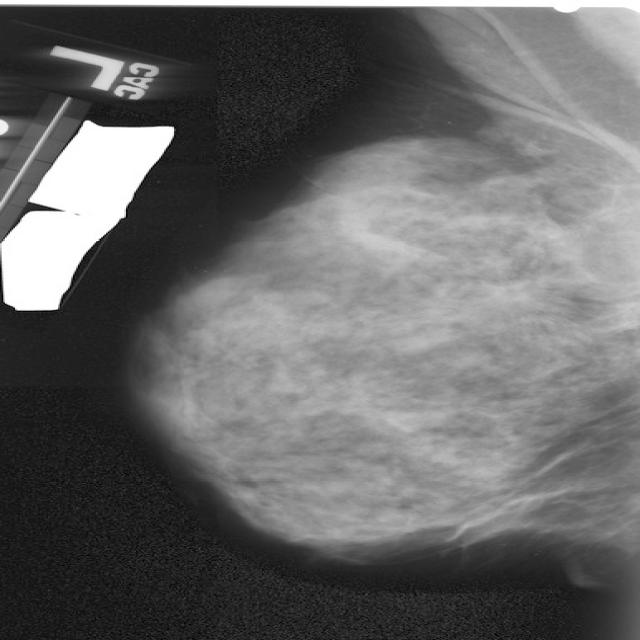tumour: (478, 274, 536, 304)
